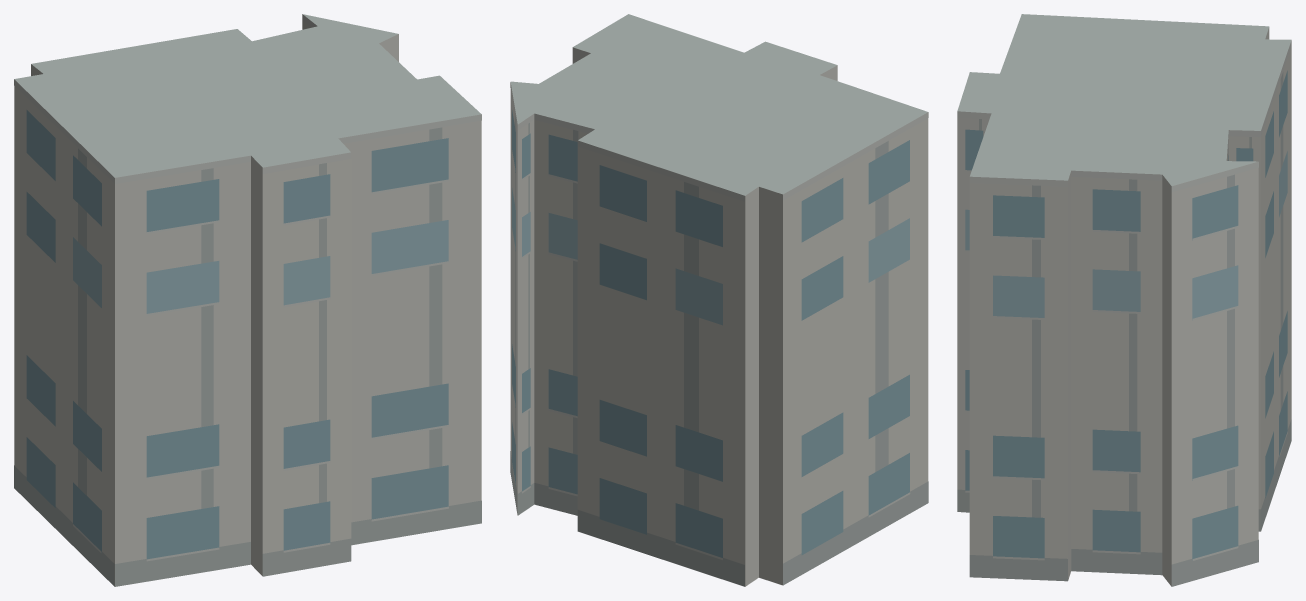
File: survey-upis-32955123.glb
The picture shows the model from 3 angles, left to right: view 1: azimuth 30°, elevation 25°; view 2: azimuth 150°, elevation 25°; view 3: azimuth 270°, elevation 25°; orthographic projection. The views are drawn at different scales.
Visible parts, largest first — view 1: survey-upis-32955123.tmp; view 2: survey-upis-32955123.tmp; view 3: survey-upis-32955123.tmp.
Part boxes in pixels (box(x1,y1,x2,y2)): survey-upis-32955123.tmp: box(14, 14, 481, 586); survey-upis-32955123.tmp: box(510, 14, 928, 586); survey-upis-32955123.tmp: box(957, 14, 1291, 586).
Bounding box in the file's own units: 14.4 × 15.6 × 11.81.
